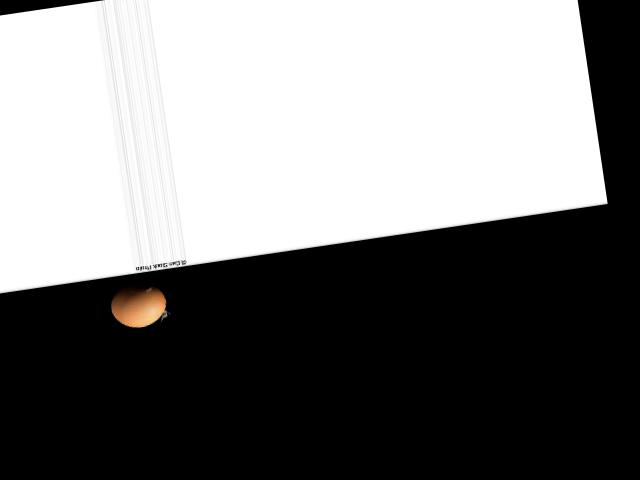egg: (107, 278, 168, 330)
